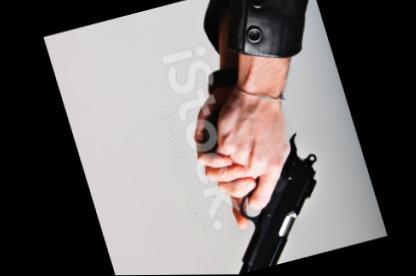pistol: (167, 86, 344, 272)
